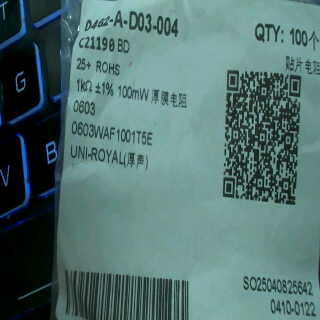1kR: (74, 77, 95, 94)
